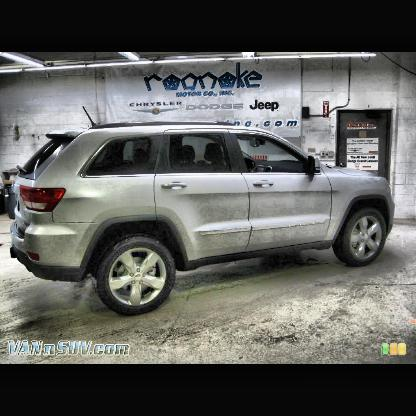Jeep Grand Cherokee SUV 2012: (10, 129, 397, 318)
